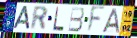A: (102, 8, 121, 34), (12, 6, 31, 31)
B: (67, 7, 85, 33)
F: (86, 6, 106, 35)
L: (52, 6, 65, 32)
R: (30, 5, 49, 31)
